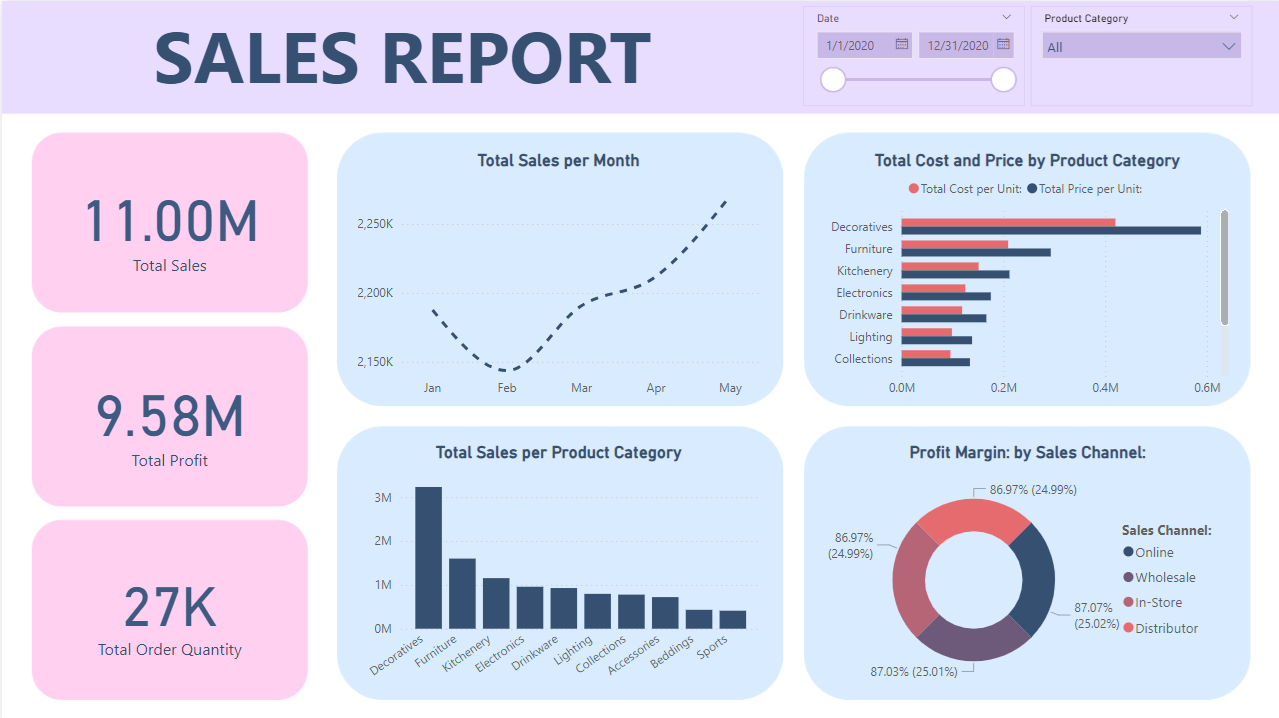

Layout of this report page (visuals, bound fields, positions):
{"tool":"powerbi","page":{"name":"Page 1","canvas":[1280,720],"ordinal":0},"visuals":[{"type":"lineChart","title":"Total Sales per Month","fields":{"Category":["Dates.Month"],"Y":["Sum(public Sales.Sales)"]},"box":[350,148.3,413.3,256],"z":0},{"type":"clusteredColumnChart","title":"Total Sales per Product Category","fields":{"Y":["Sum(public Sales.Sales)"],"Category":["public Products.Product Category"]},"box":[350,441.7,413.3,256.7],"z":1000},{"type":"donutChart","fields":{"Category":["public Sales.Sales Channel"],"Y":["public Sales.Profit Margin"]},"box":[818.3,441.7,413.3,256.7],"z":2000},{"type":"clusteredBarChart","title":"Total Cost and Price by Product Category","fields":{"Y":["Sum(public Sales.unit cost)","Sum(public Sales.unit price)"],"Category":["public Products.Product Category"]},"box":[818.3,148.3,413.3,256],"z":3000},{"type":"card","fields":{"Values":["Sum(public Sales.Sales)"]},"box":[38.3,133.3,258.3,178.3],"z":4000},{"type":"card","fields":{"Values":["public Sales.Profit"]},"box":[38.3,328.3,258.3,178.3],"z":5000},{"type":"card","fields":{"Values":["Sum(public Sales.Order qty)"]},"box":[38.3,520,258.3,178.3],"z":6000},{"type":"textbox","box":[58.3,0,683.3,115],"z":7000},{"type":"slicer","fields":{"Values":["Dates.Date"]},"box":[801.7,5,221.7,100],"z":8000},{"type":"slicer","fields":{"Values":["public Products.Product Category"]},"box":[1028.3,5,221.7,100],"z":9000}]}

Visuals, with their boxes in screenshot pixels (x1, y1, x2, y2), scaled from the page's 1280x720 canvas onto the 1279x718 screenshot:
"Total Sales per Month" lineChart: [x1=350, y1=148, x2=763, y2=403]
"Total Sales per Product Category" clusteredColumnChart: [x1=350, y1=440, x2=763, y2=696]
donutChart - public Sales.Sales Channel x public Sales.Profit Margin: [x1=818, y1=440, x2=1231, y2=696]
"Total Cost and Price by Product Category" clusteredBarChart: [x1=818, y1=148, x2=1231, y2=403]
card - Sum(public Sales.Sales): [x1=38, y1=133, x2=296, y2=311]
card - public Sales.Profit: [x1=38, y1=327, x2=296, y2=505]
card - Sum(public Sales.Order qty): [x1=38, y1=519, x2=296, y2=696]
textbox: [x1=58, y1=0, x2=741, y2=115]
slicer - Dates.Date: [x1=801, y1=5, x2=1023, y2=105]
slicer - public Products.Product Category: [x1=1027, y1=5, x2=1249, y2=105]
